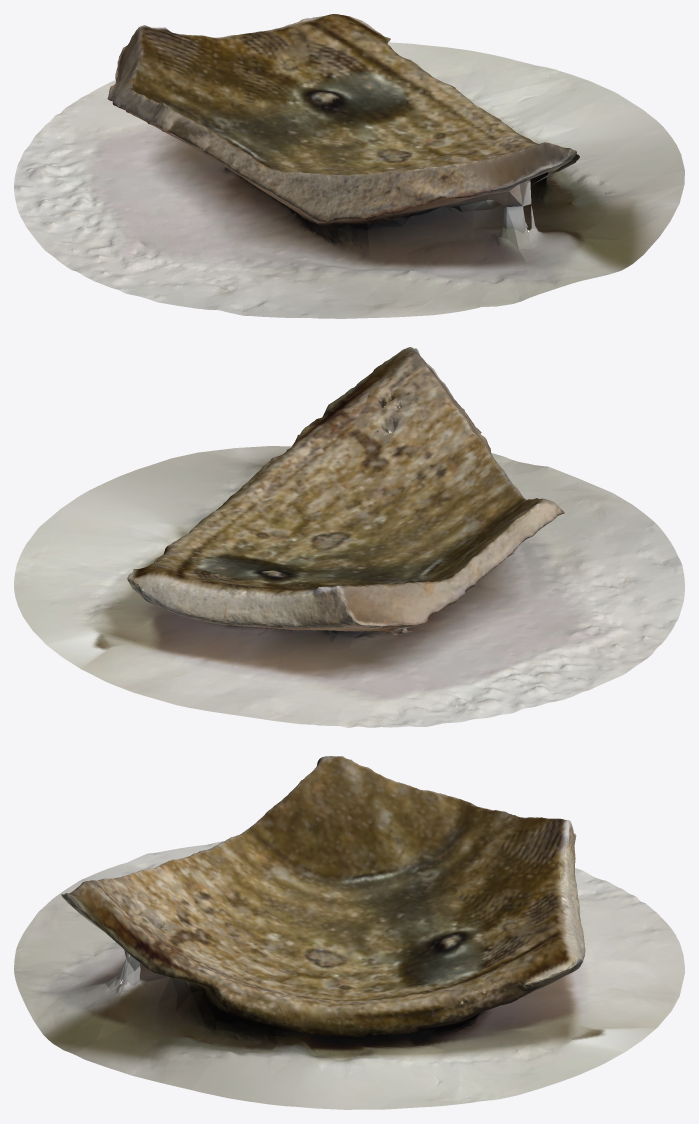
3 views of the same model, one above another, from view 1: azimuth 30°, elevation 25°; view 2: azimuth 150°, elevation 25°; view 3: azimuth 270°, elevation 25° (orthographic).
Parts seen in each view (by area): view 1: mesh; view 2: mesh; view 3: mesh.
Boxes of the visible parts, x1,y1,x2,y2 form: mesh: [14, 14, 684, 318]; mesh: [14, 347, 684, 727]; mesh: [14, 756, 684, 1109].
Bounding box in the file's own units: 0.3001 × 0.0647 × 0.2979.
Materials: 1 (1 with a texture image).
